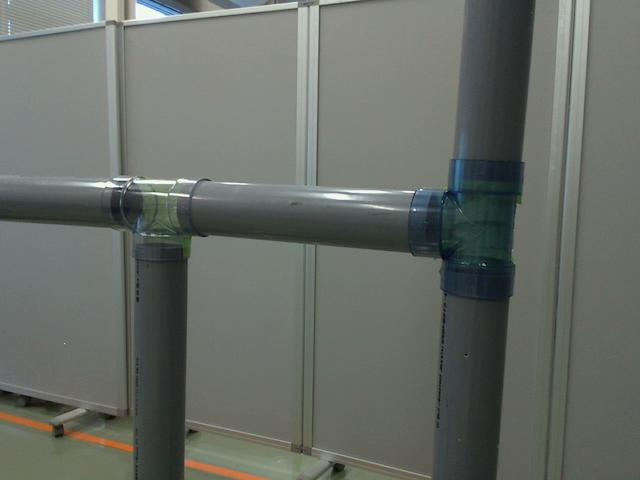junction: (415, 154, 526, 299), (108, 175, 217, 263)
